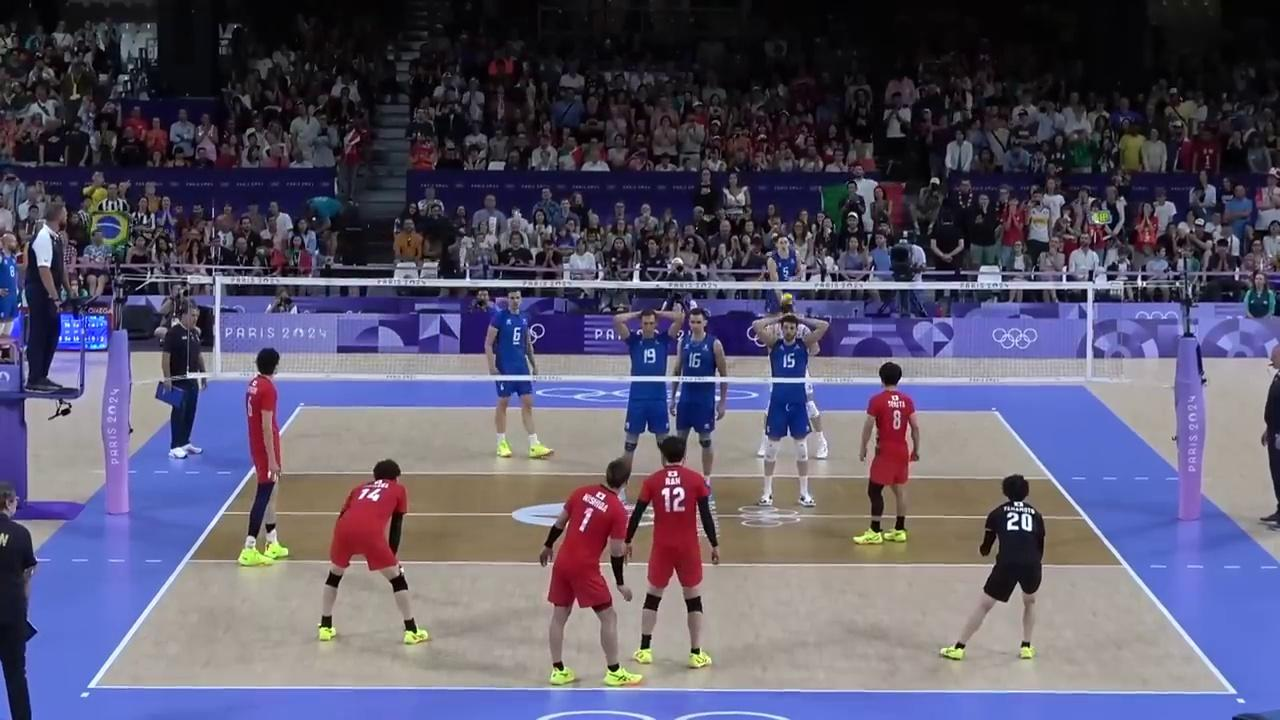ball: (781, 292, 793, 307)
